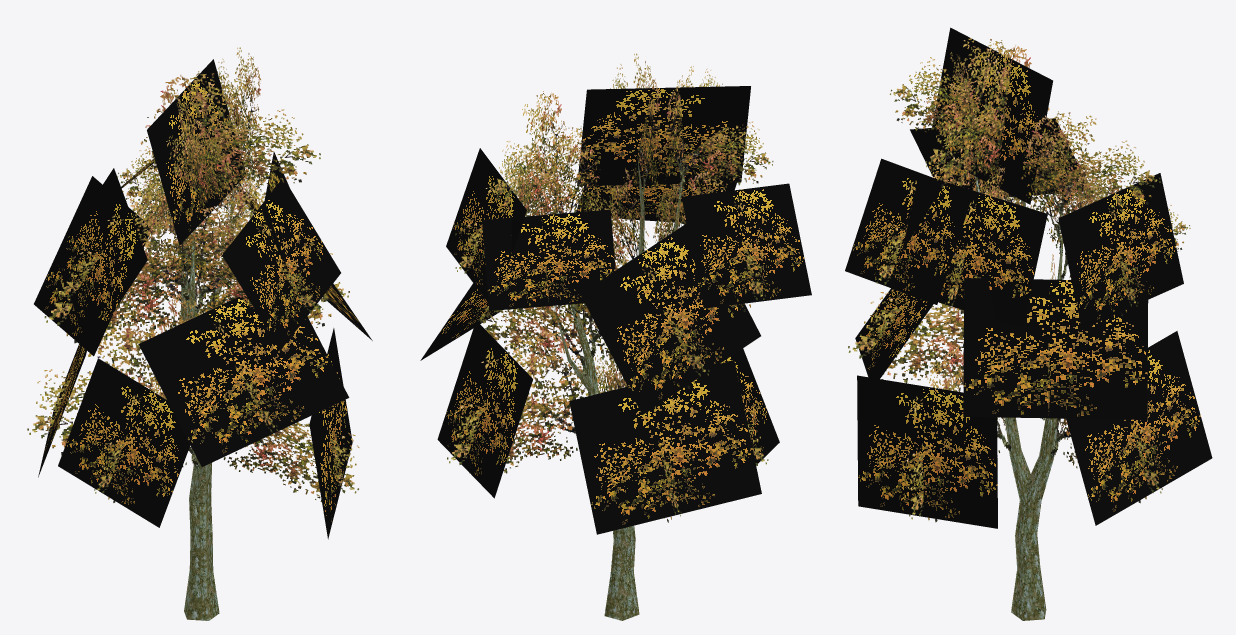
The model's file is stage-yose-p2-413.glb.
3 renders of one model, left to right at view 1: azimuth 30°, elevation 25°; view 2: azimuth 150°, elevation 25°; view 3: azimuth 270°, elevation 25°, orthographic. The views are drawn at different scales.
Bounding box in the file's own units: 8.63 × 15 × 8.95.
3 materials, 3 textured.
